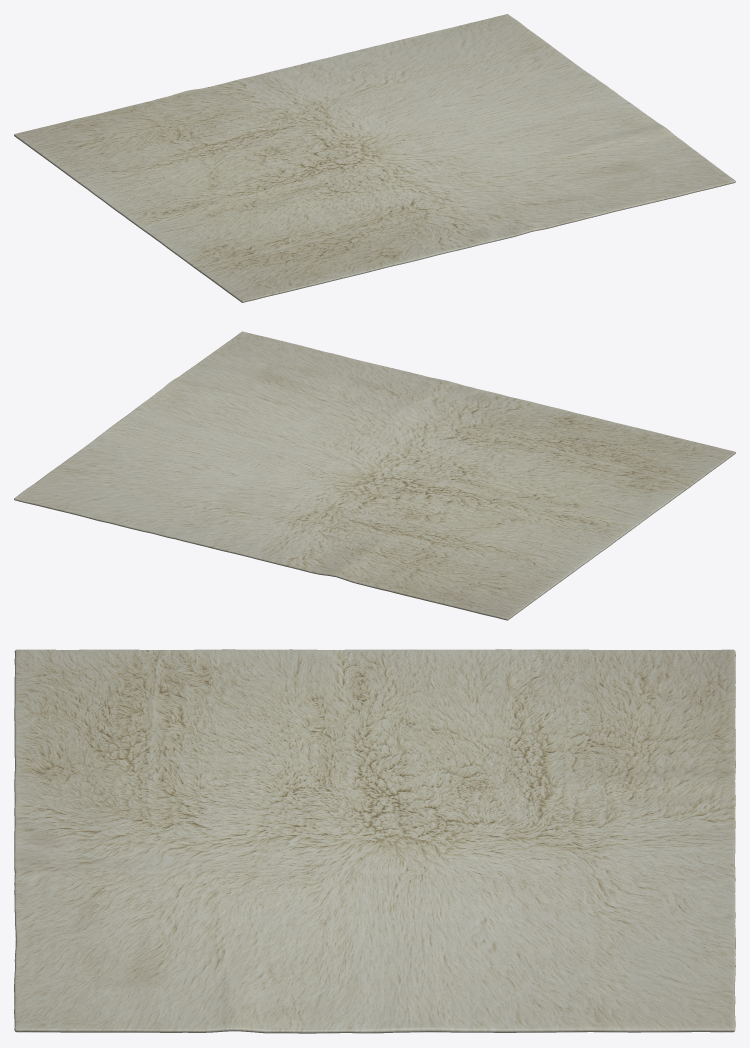
Rendered from chali_rug.gltf.
3 views of the same model, one above another, from view 1: azimuth 30°, elevation 25°; view 2: azimuth 150°, elevation 25°; view 3: azimuth 270°, elevation 25° (orthographic). The views are drawn at different scales.
Visible parts, largest first — view 1: Mesh; view 2: Mesh; view 3: Mesh.
Boxes of the visible parts, x1,y1,x2,y2 form: Mesh: (14,14,735,302); Mesh: (14,331,735,620); Mesh: (14,649,735,1033).
Bounding box in the file's own units: 0.25 × 0.00196 × 0.2.
Materials: 1 (1 with a texture image).
